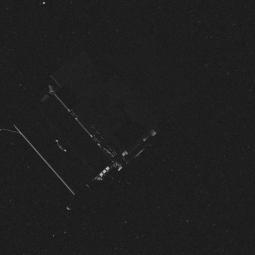proba_2: (18, 46, 118, 205)
